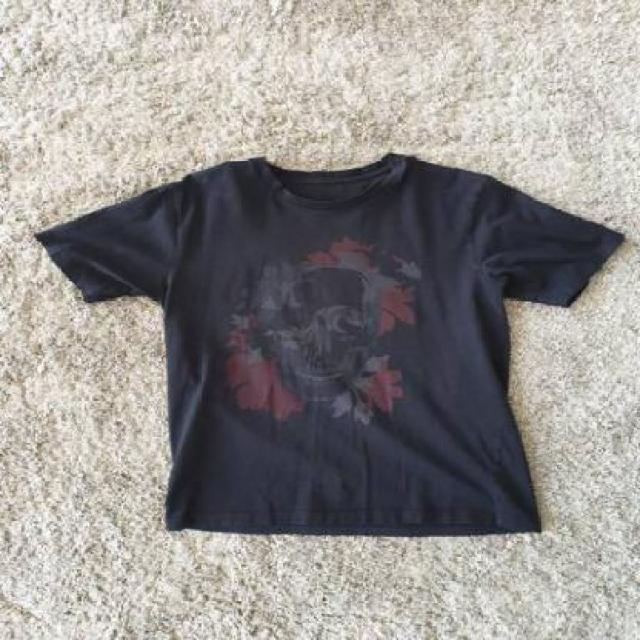shirt: (24, 149, 638, 542)
